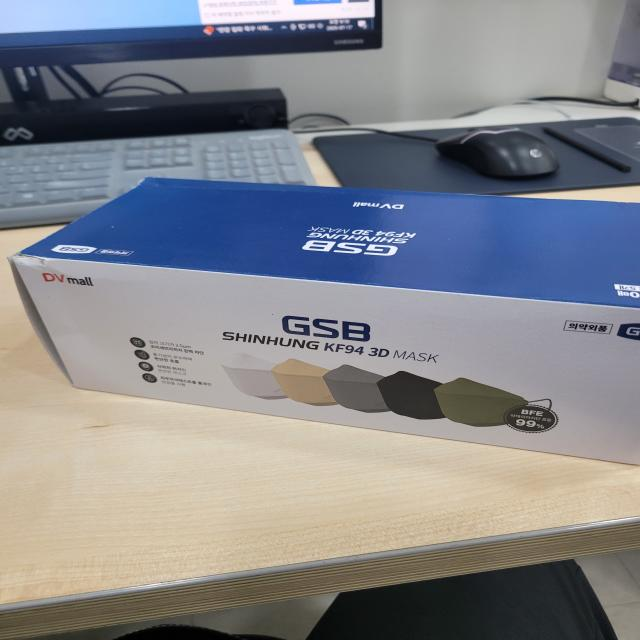mask: (8, 164, 640, 485)
